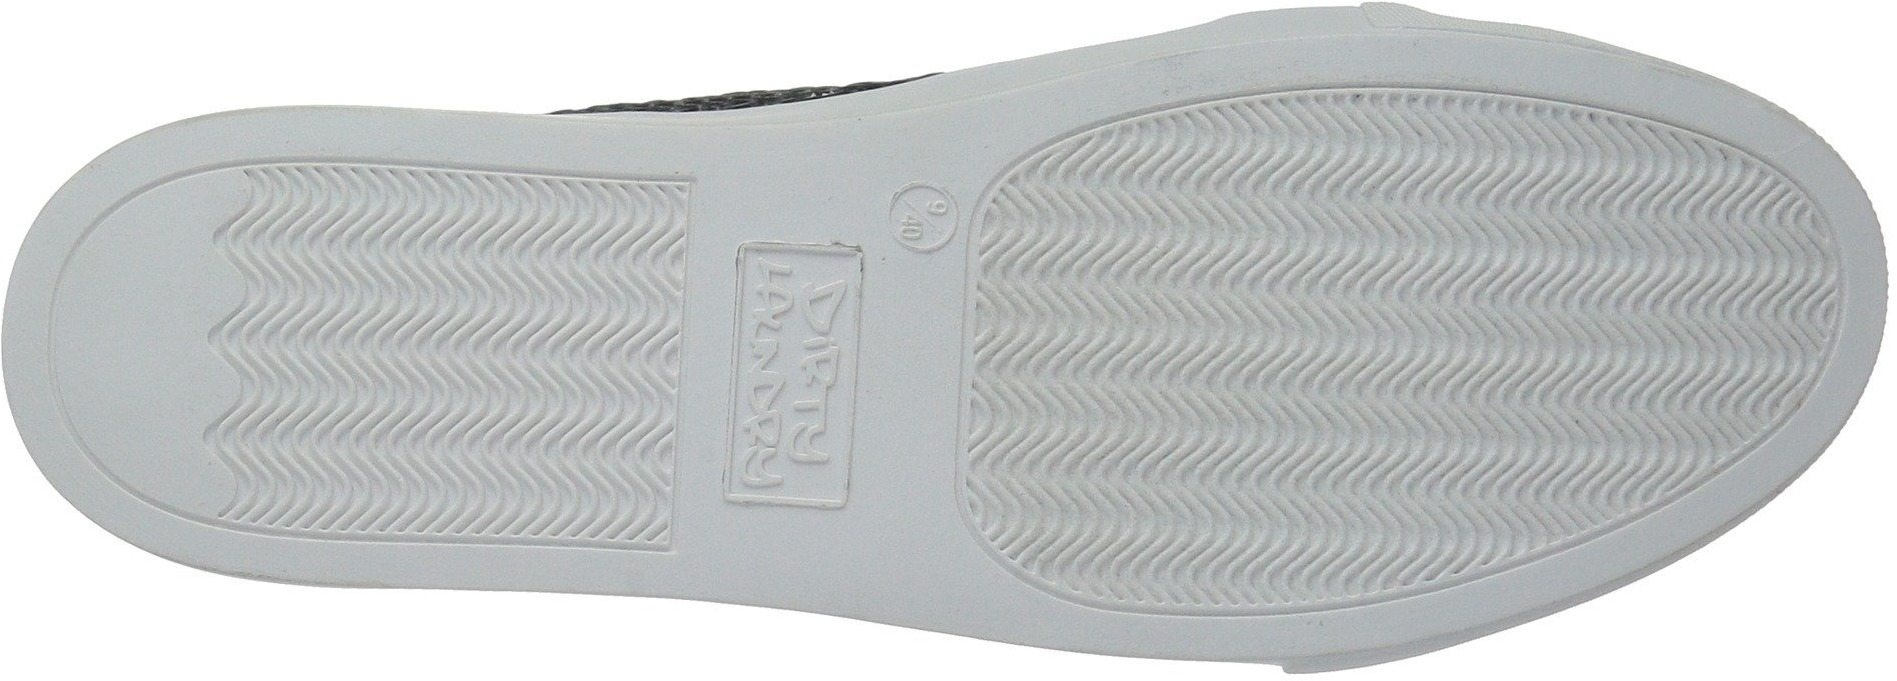chevron: (962, 86, 1838, 614), (201, 163, 698, 553), (1233, 97, 1509, 402), (999, 157, 1265, 462), (1509, 125, 1745, 457), (1192, 354, 1506, 575), (408, 200, 655, 435), (226, 202, 467, 437), (240, 300, 477, 515), (450, 328, 677, 533), (1020, 405, 1189, 571), (1440, 322, 1605, 489)
other: (46, 174, 208, 512), (40, 226, 206, 410)
quad: (717, 241, 864, 508)
text: (732, 252, 846, 489)
